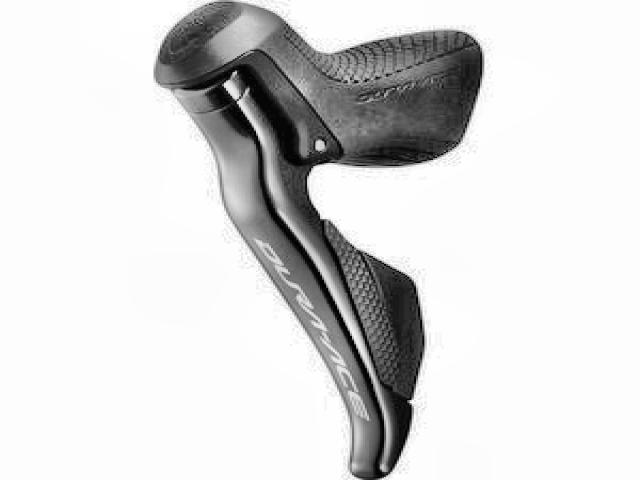sti_shifter: (149, 0, 458, 478)
